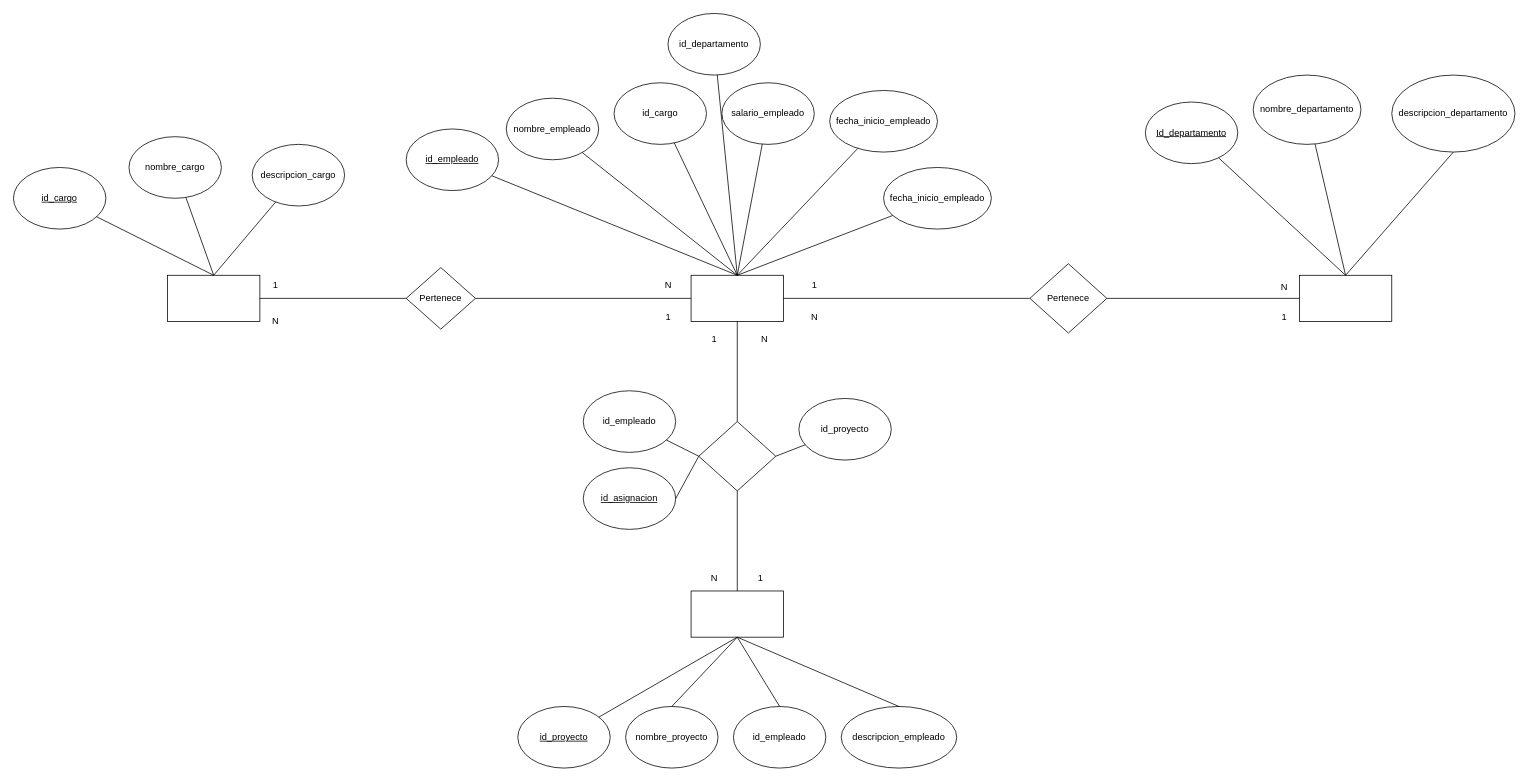
Some shapes in this 1528 by 782 pixel diagram are drawn without their labels. The box of each missing label's shape, as (x1, y1, x2, y2) in pixels:
asignar: (698, 421, 776, 491)
Cargo: (167, 275, 260, 321)
Departamento: (1299, 275, 1392, 321)
Empleado: (690, 275, 783, 321)
Proyecto: (690, 590, 783, 637)
